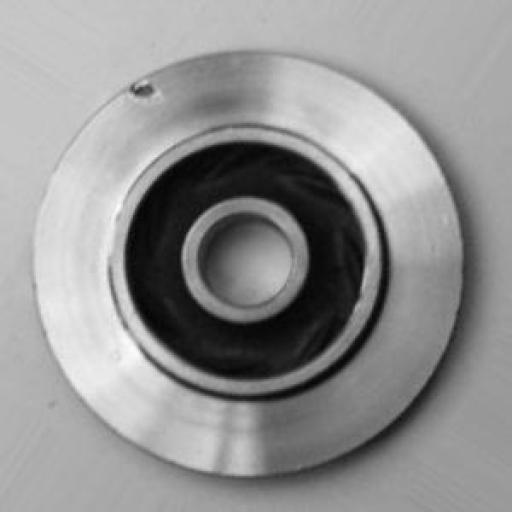defect: (120, 62, 176, 124)
